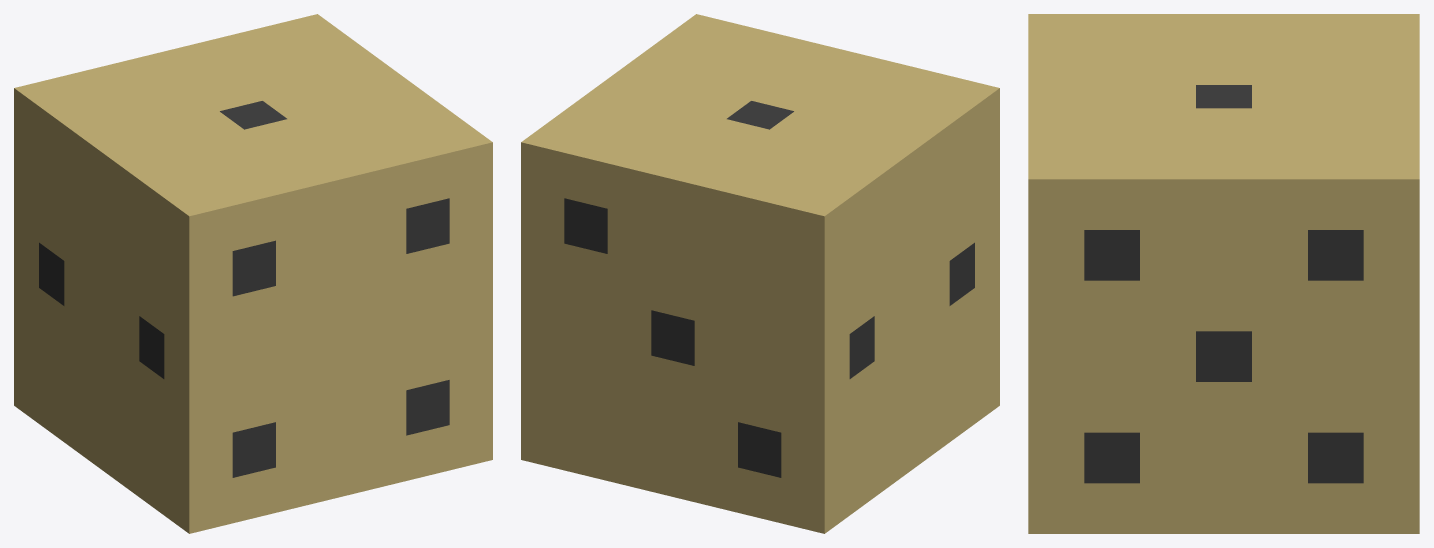
3 renders of one model, left to right at view 1: azimuth 30°, elevation 25°; view 2: azimuth 150°, elevation 25°; view 3: azimuth 270°, elevation 25°, orthographic. The views are drawn at different scales.
Size of the model in its own units: 0.35 by 0.35 by 0.35.
